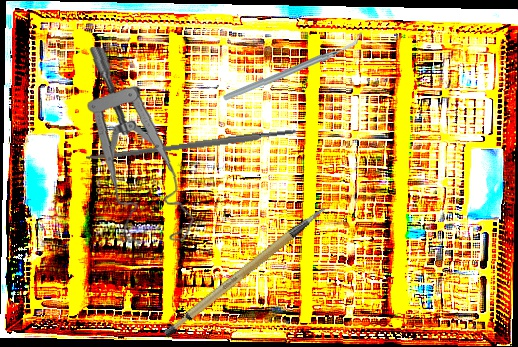Chopper: (223, 29, 363, 105)
Scalpel Handle: (148, 204, 345, 341), (85, 128, 298, 163)
Speculum: (74, 46, 207, 248)
